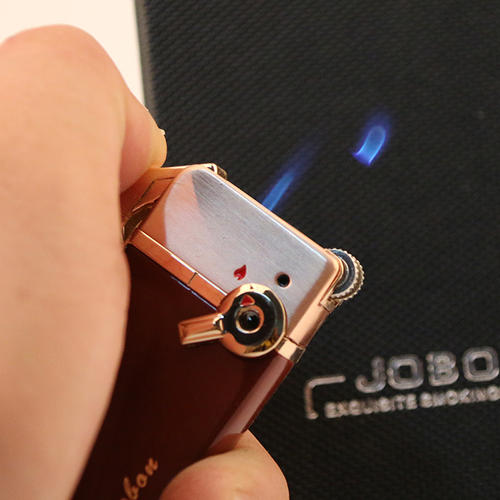fire: (271, 92, 394, 235)
